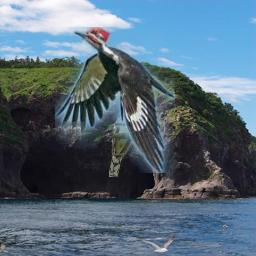Cuckoo: (109, 112, 142, 177)
Woodpecker: (55, 27, 175, 173)
